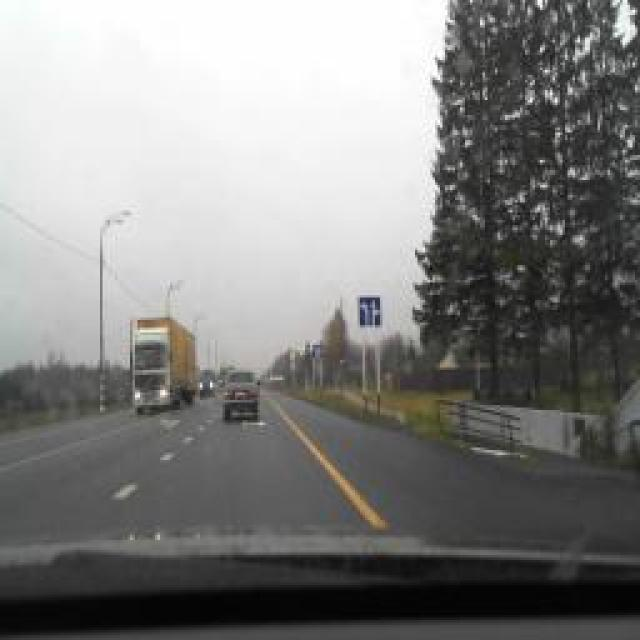sign: (359, 296, 381, 326), (312, 344, 322, 358)
